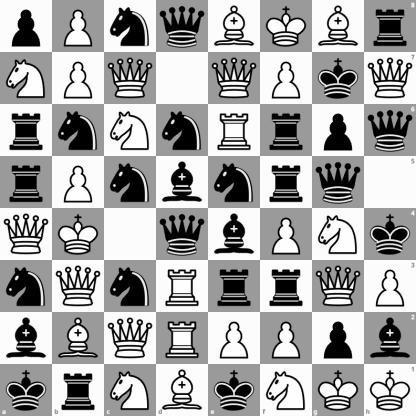B: (156, 364, 209, 416), (53, 313, 104, 364), (209, 1, 260, 52), (313, 1, 364, 52)
K: (312, 364, 364, 416), (364, 364, 416, 416), (53, 209, 104, 260), (261, 1, 312, 52)
N: (104, 364, 156, 416), (260, 364, 312, 416), (1, 53, 52, 104), (105, 105, 156, 156), (313, 209, 364, 260)
P: (364, 260, 416, 312), (53, 1, 104, 52), (53, 53, 104, 104), (53, 157, 104, 208), (209, 313, 260, 364), (261, 53, 312, 104), (261, 209, 312, 260), (261, 313, 312, 364)
Q: (364, 52, 416, 104), (1, 209, 52, 260), (53, 261, 104, 312), (105, 53, 156, 104), (105, 313, 156, 364), (209, 53, 260, 104), (313, 261, 364, 312)
R: (157, 261, 208, 312), (157, 313, 208, 364), (209, 105, 260, 156)
b: (364, 312, 416, 364), (1, 313, 52, 364), (157, 157, 208, 208), (209, 209, 260, 260)
board: (0, 0, 415, 415)
k: (0, 364, 52, 416), (209, 364, 260, 416), (364, 209, 416, 260), (313, 53, 364, 104)
n: (1, 261, 52, 312), (53, 105, 104, 156), (105, 1, 156, 52), (105, 157, 156, 208), (105, 261, 156, 312), (157, 105, 208, 156), (209, 157, 260, 208)
p: (1, 1, 52, 52), (313, 105, 364, 156), (313, 313, 364, 364)
q: (364, 104, 416, 156), (157, 1, 208, 52), (157, 209, 208, 260), (313, 157, 364, 208)
r: (52, 364, 104, 416), (364, 0, 416, 52), (1, 105, 52, 156), (1, 157, 52, 208), (209, 261, 260, 312), (261, 105, 312, 156), (261, 157, 312, 208), (261, 261, 312, 312)
